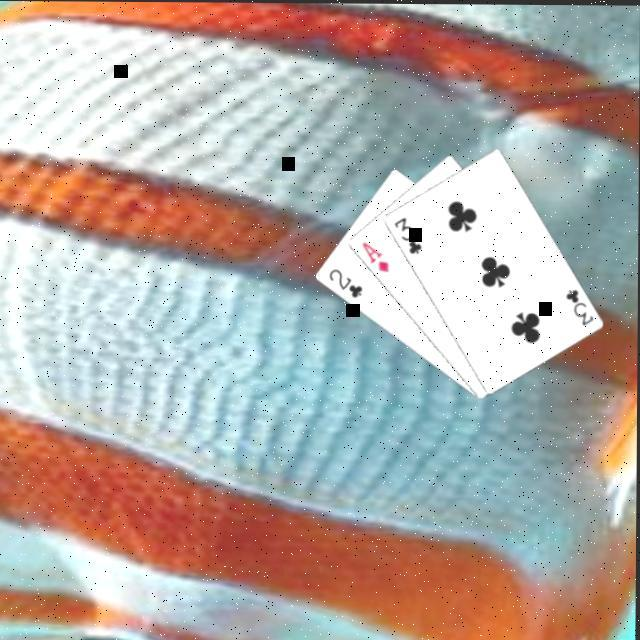2C: (325, 266, 365, 301)
3C: (389, 215, 424, 258), (561, 286, 596, 329)
AD: (358, 239, 391, 275)
